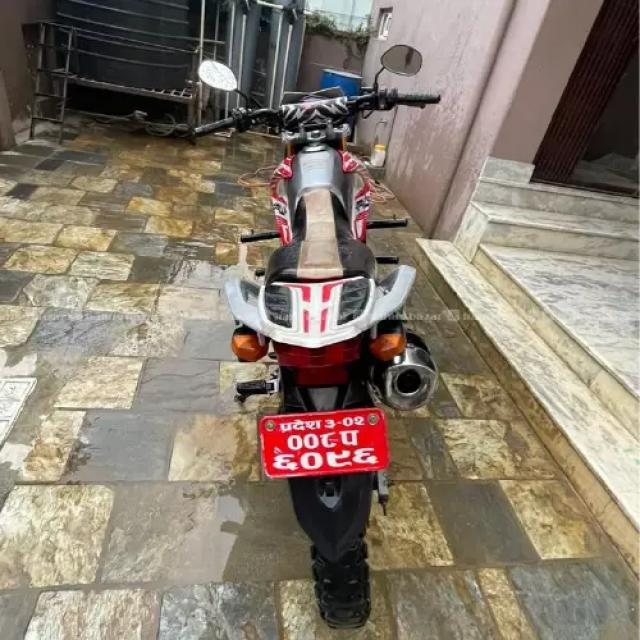License-plate: (256, 409, 391, 474)
